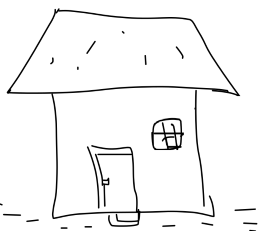big_house: (0, 0, 258, 229)
closed_window: (147, 113, 187, 157)
door: (82, 137, 145, 218)
roof: (4, 6, 243, 108)
wall: (46, 71, 218, 223)
